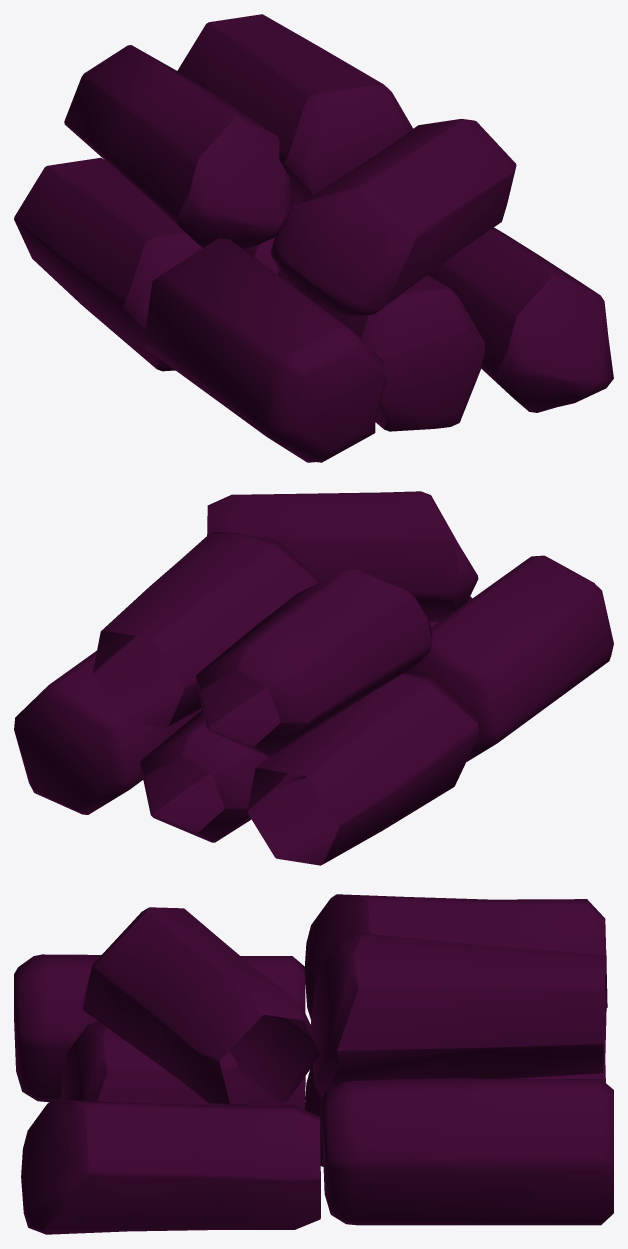
The model's file is Cty_Bld_CrystaResource02_Mod.FBX.
3 views of the same model, one above another, from view 1: azimuth 30°, elevation 25°; view 2: azimuth 150°, elevation 25°; view 3: azimuth 270°, elevation 25° (orthographic). The views are drawn at different scales.
Visible parts, largest first — view 1: Wmp_Bld_CrystaResource02_Mod; view 2: Wmp_Bld_CrystaResource02_Mod; view 3: Wmp_Bld_CrystaResource02_Mod.
Part boxes in pixels (x1,y1,x2,y2): Wmp_Bld_CrystaResource02_Mod: [14, 14, 613, 462]; Wmp_Bld_CrystaResource02_Mod: [14, 491, 613, 865]; Wmp_Bld_CrystaResource02_Mod: [14, 894, 613, 1234].
Bounding box in the file's own units: 552 × 746 × 338.
